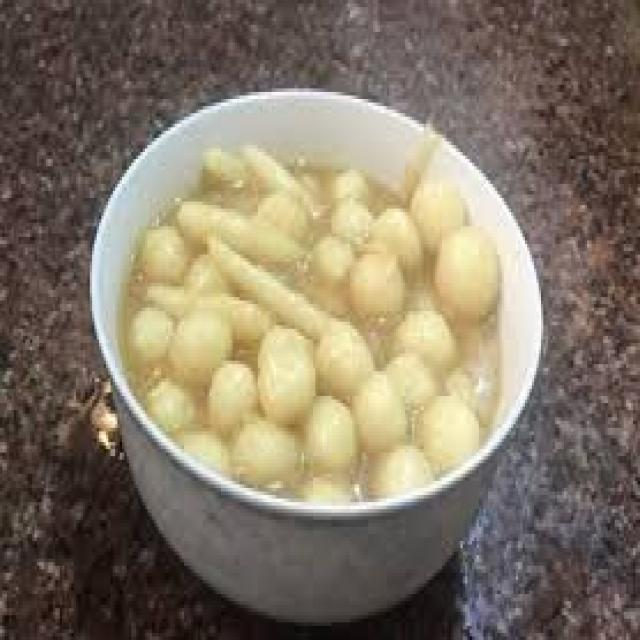paal kolukattai: (126, 111, 510, 533)
